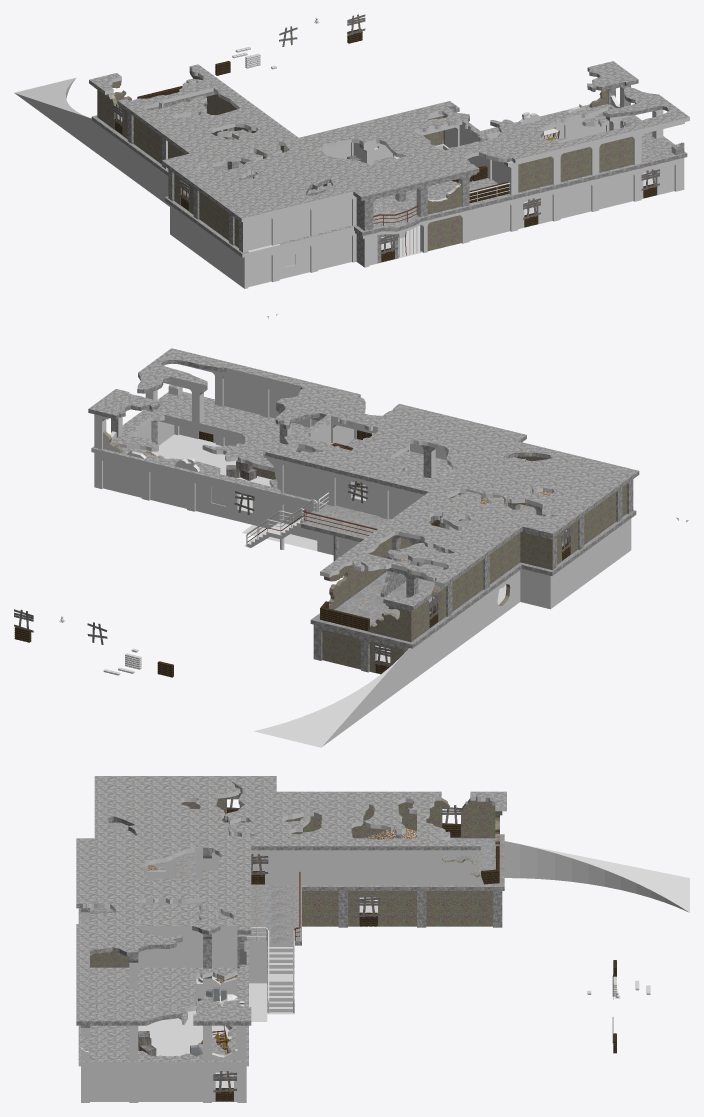
The model's file is nacht.glb.
3 renders of one model, top to bottom at view 1: azimuth 30°, elevation 25°; view 2: azimuth 150°, elevation 25°; view 3: azimuth 270°, elevation 25°, orthographic. The views are drawn at different scales.
Parts seen in each view (by area): view 1: _(Loose Entity); view 2: _(Loose Entity); view 3: _(Loose Entity).
Boxes of the visible parts, <box> form: _(Loose Entity): <box>14,46,689,318</box>; _(Loose Entity): <box>88,348,688,747</box>; _(Loose Entity): <box>76,776,689,1102</box>.
Size of the model in its own units: 39.41 by 6.12 by 44.73.
20 materials, 14 textured.
